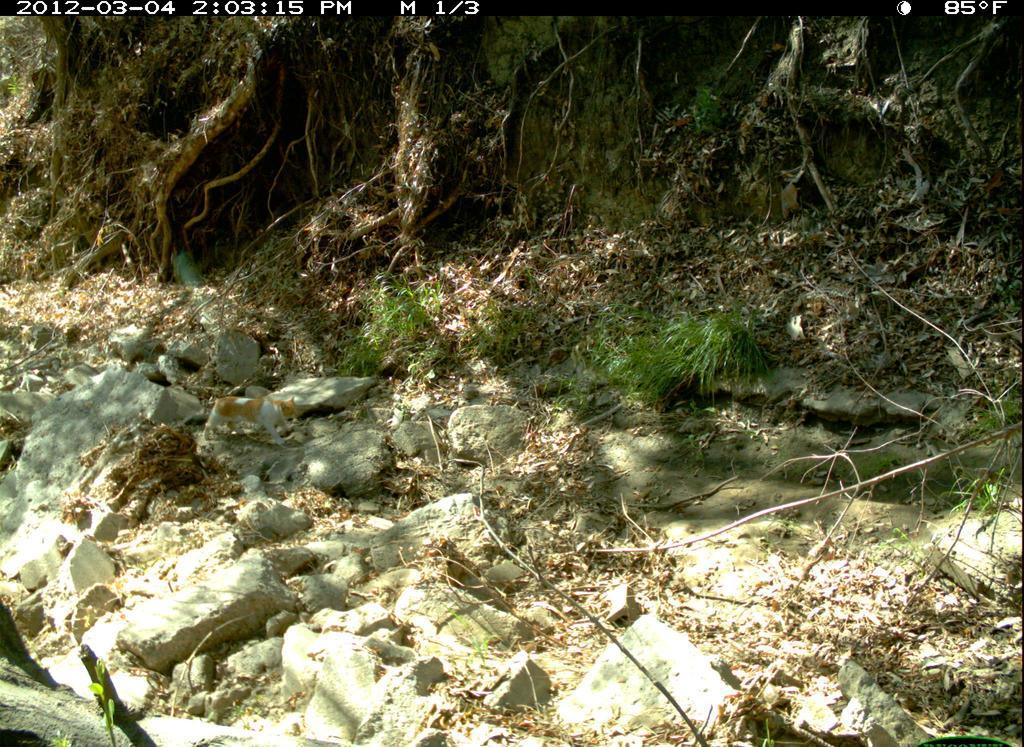cat: (194, 385, 310, 455)
